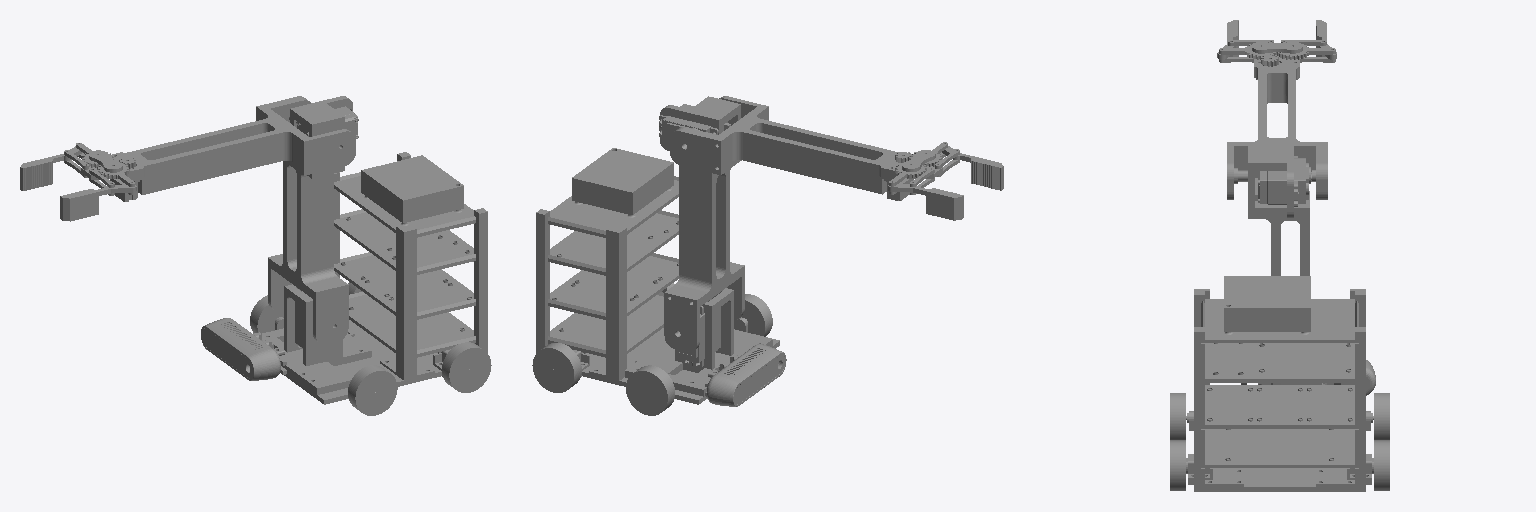
URDF robot description (macrobot_serial2r_r4):
<?xml version="1.0"?>
<robot name="macrobot_serial2r_r4"><material name="material">
      <color rgba="0.627 0.627 0.627 1.0" />
    </material>

    <link name="base_link">
      <inertial>
        <origin xyz="0.074613 0.068148 0.064319" rpy="0.000000 0.000000 0.000000" />
        <mass value="3.496760" />
        <inertia ixx="1.428406e-02" ixy="1.472034e-03" ixz="-4.731327e-03" iyy="1.935554e-02" iyz="1.056261e-03" izz="1.432474e-02" />
      </inertial>
      <visual>
        <origin xyz="-0.360034 -0.056971 0.117663" rpy="0.000000 0.000000 0.000000" />
        <geometry>
          <mesh filename="package://macrobot_description/meshes/macrobot/base_link.dae" scale="1 1 1" />
        </geometry>
        <material name="material" />
      </visual>
      <collision>
        <origin xyz="-0.360034 -0.056971 0.117663" rpy="0.000000 0.000000 0.000000" />
        <geometry>
          <mesh filename="package://macrobot_description/meshes/macrobot/base_link_collision.stl" scale="1 1 1" />
        </geometry>
      </collision>
    </link>
    <link name="camera_link">
      <inertial>
        <origin xyz="0.000000 0.000000 0.000000" rpy="0.000000 0.000000 0.000000" />
        <mass value="0.001000" />
        <inertia ixx="1.000000e-06" ixy="0.000000e+00" ixz="0.000000e+00" iyy="1.000000e-06" iyz="0.000000e+00" izz="1.000000e-06" />
      </inertial>
      <visual>
        <origin xyz="0.067650 -0.079323 -0.025820" rpy="0.000000 0.000000 0.000000" />
        <geometry>
          <mesh filename="package://macrobot_description/meshes/macrobot/camera_link.dae" scale="1 1 1" />
        </geometry>
        <material name="material" />
      </visual>
      <collision>
        <origin xyz="0.067650 -0.079323 -0.025820" rpy="0.000000 0.000000 0.000000" />
        <geometry>
          <mesh filename="package://macrobot_description/meshes/macrobot/camera_link_collision.stl" scale="1 1 1" />
        </geometry>
      </collision>
    </link>
    <link name="front_left_wheel">
      <inertial>
        <origin xyz="0.000000 0.006000 0.000000" rpy="0.000000 0.000000 0.000000" />
        <mass value="0.109612" />
        <inertia ixx="1.158027e-05" ixy="-5.019984e-21" ixz="8.645529e-22" iyy="2.052987e-05" iyz="-3.388132e-21" izz="1.158028e-05" />
      </inertial>
      <visual>
        <origin xyz="0.000000 0.000000 -0.019300" rpy="0.000000 0.000000 0.000000" />
        <geometry>
          <mesh filename="package://macrobot_description/meshes/macrobot/front_left_wheel.dae" scale="1 1 1" />
        </geometry>
        <material name="material" />
      </visual>
      <collision>
        <origin xyz="0.000000 0.000000 -0.019300" rpy="0.000000 0.000000 0.000000" />
        <geometry>
          <mesh filename="package://macrobot_description/meshes/macrobot/front_left_wheel_collision.stl" scale="1 1 1" />
        </geometry>
      </collision>
    </link>
    <link name="front_right_wheel">
      <inertial>
        <origin xyz="0.000000 -0.006000 0.000000" rpy="0.000000 0.000000 0.000000" />
        <mass value="0.109612" />
        <inertia ixx="1.158027e-05" ixy="1.427908e-20" ixz="-9.928414e-21" iyy="2.052987e-05" iyz="5.421011e-20" izz="1.158028e-05" />
      </inertial>
      <visual>
        <origin xyz="0.000000 -0.167400 -0.019300" rpy="0.000000 0.000000 0.000000" />
        <geometry>
          <mesh filename="package://macrobot_description/meshes/macrobot/front_right_wheel.dae" scale="1 1 1" />
        </geometry>
        <material name="material" />
      </visual>
      <collision>
        <origin xyz="0.000000 -0.167400 -0.019300" rpy="0.000000 0.000000 0.000000" />
        <geometry>
          <mesh filename="package://macrobot_description/meshes/macrobot/front_right_wheel_collision.stl" scale="1 1 1" />
        </geometry>
      </collision>
    </link>
    <link name="back_left_wheel">
      <inertial>
        <origin xyz="0.000000 0.006000 0.000000" rpy="0.000000 0.000000 0.000000" />
        <mass value="0.109612" />
        <inertia ixx="1.158027e-05" ixy="2.032879e-20" ixz="2.710505e-20" iyy="2.052987e-05" iyz="-1.694066e-21" izz="1.158028e-05" />
      </inertial>
      <visual>
        <origin xyz="-0.086000 0.000000 -0.019300" rpy="0.000000 0.000000 0.000000" />
        <geometry>
          <mesh filename="package://macrobot_description/meshes/macrobot/back_left_wheel.dae" scale="1 1 1" />
        </geometry>
        <material name="material" />
      </visual>
      <collision>
        <origin xyz="-0.086000 0.000000 -0.019300" rpy="0.000000 0.000000 0.000000" />
        <geometry>
          <mesh filename="package://macrobot_description/meshes/macrobot/back_left_wheel_collision.stl" scale="1 1 1" />
        </geometry>
      </collision>
    </link>
    <link name="back_right_wheel">
      <inertial>
        <origin xyz="0.000000 -0.006000 0.000000" rpy="0.000000 0.000000 0.000000" />
        <mass value="0.109612" />
        <inertia ixx="1.158027e-05" ixy="-4.336809e-19" ixz="-2.710505e-20" iyy="2.052987e-05" iyz="-1.084202e-19" izz="1.158028e-05" />
      </inertial>
      <visual>
        <origin xyz="-0.086000 -0.167400 -0.019300" rpy="0.000000 0.000000 0.000000" />
        <geometry>
          <mesh filename="package://macrobot_description/meshes/macrobot/back_right_wheel.dae" scale="1 1 1" />
        </geometry>
        <material name="material" />
      </visual>
      <collision>
        <origin xyz="-0.086000 -0.167400 -0.019300" rpy="0.000000 0.000000 0.000000" />
        <geometry>
          <mesh filename="package://macrobot_description/meshes/macrobot/back_right_wheel_collision.stl" scale="1 1 1" />
        </geometry>
      </collision>
    </link>
    <link name="robot_arm_link">
      <inertial>
        <origin xyz="0.102670 -0.000857 0.024891" rpy="0.000000 0.000000 0.000000" />
        <mass value="1.110983" />
        <inertia ixx="4.747553e-04" ixy="2.116747e-04" ixz="-2.405824e-04" iyy="4.030443e-03" iyz="1.481253e-06" izz="3.843086e-03" />
      </inertial>
      <visual>
        <origin xyz="0.000000 0.000000 -0.011300" rpy="0.000000 0.000000 0.000000" />
        <geometry>
          <mesh filename="package://macrobot_description/meshes/macrobot/robot_arm_link.dae" scale="1 1 1" />
        </geometry>
        <material name="material" />
      </visual>
      <collision>
        <origin xyz="0.000000 0.000000 -0.011300" rpy="0.000000 0.000000 0.000000" />
        <geometry>
          <mesh filename="package://macrobot_description/meshes/macrobot/robot_arm_link_collision.stl" scale="1 1 1" />
        </geometry>
      </collision>
    </link>
    <link name="gripper_link">
      <inertial>
        <origin xyz="0.019437 0.081150 0.000114" rpy="0.000000 0.000000 0.000000" />
        <mass value="0.748771" />
        <inertia ixx="2.990810e-03" ixy="-6.776506e-05" ixz="2.487471e-06" iyy="3.227377e-04" iyz="1.032303e-04" izz="3.211737e-03" />
      </inertial>
      <visual>
        <origin xyz="-0.004500 0.160300 -0.004500" rpy="0.000000 0.000000 0.000000" />
        <geometry>
          <mesh filename="package://macrobot_description/meshes/macrobot/gripper_link.dae" scale="1 1 1" />
        </geometry>
        <material name="material" />
      </visual>
      <collision>
        <origin xyz="-0.004500 0.160300 -0.004500" rpy="0.000000 0.000000 0.000000" />
        <geometry>
          <mesh filename="package://macrobot_description/meshes/macrobot/gripper_link_collision.stl" scale="1 1 1" />
        </geometry>
      </collision>
    </link>
    <link name="gripper_servo_gear">
      <inertial>
        <origin xyz="-0.000016 0.000000 0.005600" rpy="0.000000 0.000000 0.000000" />
        <mass value="0.005385" />
        <inertia ixx="1.000000e-06" ixy="1.786405e-11" ixz="6.233987e-11" iyy="1.000000e-06" iyz="-6.488219e-13" izz="1.000000e-06" />
      </inertial>
      <visual>
        <origin xyz="0.030641 -0.021579 0.002460" rpy="0.000000 0.000000 0.000000" />
        <geometry>
          <mesh filename="package://macrobot_description/meshes/macrobot/gripper_servo_gear.dae" scale="1 1 1" />
        </geometry>
        <material name="material" />
      </visual>
      <collision>
        <origin xyz="0.030641 -0.021579 0.002460" rpy="0.000000 0.000000 0.000000" />
        <geometry>
          <mesh filename="package://macrobot_description/meshes/macrobot/gripper_servo_gear_collision.stl" scale="1 1 1" />
        </geometry>
      </collision>
    </link>
    <link name="gripper_left_gear">
      <inertial>
        <origin xyz="-0.005942 0.000000 0.000205" rpy="0.000000 0.000000 0.000000" />
        <mass value="0.015694" />
        <inertia ixx="1.000000e-06" ixy="1.067814e-15" ixz="-1.840374e-07" iyy="2.064126e-06" iyz="6.739151e-16" izz="2.329471e-06" />
      </inertial>
      <visual>
        <origin xyz="0.037200 -0.038349 -0.004000" rpy="0.000000 0.000000 0.000000" />
        <geometry>
          <mesh filename="package://macrobot_description/meshes/macrobot/gripper_left_gear.dae" scale="1 1 1" />
        </geometry>
        <material name="material" />
      </visual>
      <collision>
        <origin xyz="0.037200 -0.038349 -0.004000" rpy="0.000000 0.000000 0.000000" />
        <geometry>
          <mesh filename="package://macrobot_description/meshes/macrobot/gripper_left_gear_collision.stl" scale="1 1 1" />
        </geometry>
      </collision>
    </link>
    <link name="gripper_right_gear">
      <inertial>
        <origin xyz="0.005924 0.000000 0.000201" rpy="0.000000 0.000000 0.000000" />
        <mass value="0.015645" />
        <inertia ixx="1.000000e-06" ixy="-1.388592e-15" ixz="1.844147e-07" iyy="2.062285e-06" iyz="6.129918e-16" izz="2.327511e-06" />
      </inertial>
      <visual>
        <origin xyz="0.013200 -0.038349 -0.004000" rpy="0.000000 0.000000 0.000000" />
        <geometry>
          <mesh filename="package://macrobot_description/meshes/macrobot/gripper_right_gear.dae" scale="1 1 1" />
        </geometry>
        <material name="material" />
      </visual>
      <collision>
        <origin xyz="0.013200 -0.038349 -0.004000" rpy="0.000000 0.000000 0.000000" />
        <geometry>
          <mesh filename="package://macrobot_description/meshes/macrobot/gripper_right_gear_collision.stl" scale="1 1 1" />
        </geometry>
      </collision>
    </link>
    <link name="gripper_left_addition">
      <inertial>
        <origin xyz="-0.015000 0.000000 -0.002000" rpy="0.000000 0.000000 0.000000" />
        <mass value="0.005805" />
        <inertia ixx="1.000000e-06" ixy="1.129942e-18" ixz="3.176374e-22" iyy="1.000000e-06" iyz="1.588187e-22" izz="1.000000e-06" />
      </inertial>
      <visual>
        <origin xyz="0.030200 -0.053349 -0.003500" rpy="0.000000 0.000000 0.000000" />
        <geometry>
          <mesh filename="package://macrobot_description/meshes/macrobot/gripper_left_addition.dae" scale="1 1 1" />
        </geometry>
        <material name="material" />
      </visual>
      <collision>
        <origin xyz="0.030200 -0.053349 -0.003500" rpy="0.000000 0.000000 0.000000" />
        <geometry>
          <mesh filename="package://macrobot_description/meshes/macrobot/gripper_left_addition_collision.stl" scale="1 1 1" />
        </geometry>
      </collision>
    </link>
    <link name="gripper_right_addition">
      <inertial>
        <origin xyz="0.015000 0.000000 -0.002000" rpy="0.000000 0.000000 0.000000" />
        <mass value="0.005805" />
        <inertia ixx="1.000000e-06" ixy="1.128460e-18" ixz="2.646978e-22" iyy="1.000000e-06" iyz="-5.293956e-23" izz="1.000000e-06" />
      </inertial>
      <visual>
        <origin xyz="0.020200 -0.053349 -0.003500" rpy="0.000000 0.000000 0.000000" />
        <geometry>
          <mesh filename="package://macrobot_description/meshes/macrobot/gripper_right_addition.dae" scale="1 1 1" />
        </geometry>
        <material name="material" />
      </visual>
      <collision>
        <origin xyz="0.020200 -0.053349 -0.003500" rpy="0.000000 0.000000 0.000000" />
        <geometry>
          <mesh filename="package://macrobot_description/meshes/macrobot/gripper_right_addition_collision.stl" scale="1 1 1" />
        </geometry>
      </collision>
    </link>
    <link name="gripper_clamp_left">
      <inertial>
        <origin xyz="0.000612 0.023868 -0.008897" rpy="0.000000 0.000000 0.000000" />
        <mass value="0.011841" />
        <inertia ixx="2.717208e-06" ixy="-2.405366e-07" ixz="4.658296e-08" iyy="1.000000e-06" iyz="3.638982e-07" izz="2.380502e-06" />
      </inertial>
      <visual>
        <origin xyz="0.060200 -0.053349 -0.003500" rpy="0.000000 0.000000 0.000000" />
        <geometry>
          <mesh filename="package://macrobot_description/meshes/macrobot/gripper_clamp_left.dae" scale="1 1 1" />
        </geometry>
        <material name="material" />
      </visual>
      <collision>
        <origin xyz="0.060200 -0.053349 -0.003500" rpy="0.000000 0.000000 0.000000" />
        <geometry>
          <mesh filename="package://macrobot_description/meshes/macrobot/gripper_clamp_left_collision.stl" scale="1 1 1" />
        </geometry>
      </collision>
    </link>
    <link name="gripper_clamp_right">
      <inertial>
        <origin xyz="-0.000612 0.023868 -0.008897" rpy="0.000000 0.000000 0.000000" />
        <mass value="0.011841" />
        <inertia ixx="2.717208e-06" ixy="2.405366e-07" ixz="-4.658296e-08" iyy="1.000000e-06" iyz="3.638982e-07" izz="2.380502e-06" />
      </inertial>
      <visual>
        <origin xyz="-0.009800 -0.053349 -0.003500" rpy="0.000000 0.000000 0.000000" />
        <geometry>
          <mesh filename="package://macrobot_description/meshes/macrobot/gripper_clamp_right.dae" scale="1 1 1" />
        </geometry>
        <material name="material" />
      </visual>
      <collision>
        <origin xyz="-0.009800 -0.053349 -0.003500" rpy="0.000000 0.000000 0.000000" />
        <geometry>
          <mesh filename="package://macrobot_description/meshes/macrobot/gripper_clamp_right_collision.stl" scale="1 1 1" />
        </geometry>
      </collision>
    </link>
    <link name="gripper_command_link">
      <inertial>
        <origin xyz="0.0 0.0 0.0" rpy="0.0 0.0 0.0" />
        <mass value="0.000001" />
        <inertia ixx="1.0e-12" ixy="0.0" ixz="0.0" iyy="1.0e-12" iyz="0.0" izz="1.0e-12" />
      </inertial>
    </link>
    <link name="tool0" />
    <link name="grasp_nominal" />

    <joint name="gripper_joint" type="revolute">
      <parent link="gripper_link" />
      <child link="gripper_command_link" />
      <origin xyz="0.000000 0.000000 0.000000" rpy="0.000000 0.000000 0.000000" />
      <axis xyz="0.000000 0.000000 1.000000" />
      <limit lower="0.000000000000" upper="1.570796326795" effort="20.000000" velocity="2.000000" />
    </joint>
    <joint name="camera_fix_joint" type="fixed">
      <parent link="base_link" />
      <child link="camera_link" />
      <origin xyz="-0.030650 0.060623 0.025820" rpy="0.000000 0.000000 0.000000" />
    </joint>
        <joint name="front_left_wheel_joint" type="continuous">
            <parent link="base_link" />
            <child link="front_left_wheel" />
            <origin xyz="0.037000 -0.018700 0.019300" rpy="0.000000 0.000000 0.000000" />
            <axis xyz="0.000000 -1.000000 0.000000" />
            <limit effort="100.0" velocity="1.0" />
          </joint>
        <joint name="front_right_wheel_joint" type="continuous">
            <parent link="base_link" />
            <child link="front_right_wheel" />
            <origin xyz="0.037000 0.148700 0.019300" rpy="0.000000 0.000000 0.000000" />
            <axis xyz="0.000000 1.000000 0.000000" />
            <limit effort="100.0" velocity="1.0" />
          </joint>
        <joint name="back_left_wheel_joint" type="continuous">
            <parent link="base_link" />
            <child link="back_left_wheel" />
            <origin xyz="0.123000 -0.018700 0.019300" rpy="0.000000 0.000000 0.000000" />
            <axis xyz="0.000000 -1.000000 0.000000" />
            <limit effort="100.0" velocity="1.0" />
          </joint>
        <joint name="back_right_wheel_joint" type="continuous">
            <parent link="base_link" />
            <child link="back_right_wheel" />
            <origin xyz="0.123000 0.148700 0.019300" rpy="0.000000 0.000000 0.000000" />
            <axis xyz="0.000000 1.000000 0.000000" />
            <limit effort="100.0" velocity="1.0" />
          </joint>
        <joint name="arm_lift_joint" type="revolute">
      <parent link="base_link" />
      <child link="robot_arm_link" />
      <origin xyz="0.030000 0.093700 0.057900" rpy="-1.637996 -1.570796 -3.074393" />
      <axis xyz="0.000000 0.000000 -1.000000" />
      <limit lower="-1.000000000000" upper="1.000000000000" effort="100.000000" velocity="1.000000" />
    </joint>
    <joint name="wrist_pitch_joint" type="revolute">
      <parent link="robot_arm_link" />
      <child link="gripper_link" />
      <origin xyz="0.161000 0.000400 0.010000" rpy="0.000000 -1.570796 0.000000" />
      <axis xyz="-1.000000 0.000000 0.000000" />
      <limit lower="-1.300000000000" upper="1.300000000000" effort="100.000000" velocity="1.000000" />
    </joint>
    <joint name="gripper_servo_joint" type="revolute">
      <parent link="gripper_link" />
      <child link="gripper_servo_gear" />
      <origin xyz="0.026141 0.176579 -0.006540" rpy="3.141593 0.000000 -3.141593" />
      <axis xyz="0.000000 0.000000 1.000000" />
      <limit lower="0.000000000000" upper="3.141592653590" effort="100.000000" velocity="1.000000" />
      <mimic joint="gripper_joint" multiplier="2.000000000000" offset="0.000000000000" />
    </joint>
    <joint name="gripper_left_gear_joint" type="revolute">
      <parent link="gripper_link" />
      <child link="gripper_left_gear" />
      <origin xyz="0.032700 0.193349 -0.012500" rpy="3.141593 0.000000 -3.141593" />
      <axis xyz="0.000000 0.000000 1.000000" />
      <limit lower="-1.570796326795" upper="0.000000000000" effort="100.000000" velocity="1.000000" />
      <mimic joint="gripper_joint" multiplier="-1.000000000000" offset="0.000000000000" />
    </joint>
    <joint name="gripper_right_gear_joint" type="revolute">
      <parent link="gripper_link" />
      <child link="gripper_right_gear" />
      <origin xyz="0.008700 0.193349 -0.012500" rpy="3.141593 0.000000 -3.141593" />
      <axis xyz="0.000000 0.000000 1.000000" />
      <limit lower="0.000000000000" upper="1.570796326795" effort="100.000000" velocity="1.000000" />
      <mimic joint="gripper_joint" multiplier="1.000000000000" offset="0.000000000000" />
    </joint>
    <joint name="gripper_left_addition_joint" type="revolute">
      <parent link="gripper_link" />
      <child link="gripper_left_addition" />
      <origin xyz="0.025700 0.208349 -0.012500" rpy="3.141593 0.000000 -3.141593" />
      <axis xyz="0.000000 0.000000 1.000000" />
      <limit lower="-1.570796326795" upper="0.000000000000" effort="100.000000" velocity="1.000000" />
      <mimic joint="gripper_joint" multiplier="-1.000000000000" offset="0.000000000000" />
    </joint>
    <joint name="gripper_right_addition_joint" type="revolute">
      <parent link="gripper_link" />
      <child link="gripper_right_addition" />
      <origin xyz="0.015700 0.208349 -0.012500" rpy="3.141593 0.000000 -3.141593" />
      <axis xyz="0.000000 0.000000 1.000000" />
      <limit lower="0.000000000000" upper="1.570796326795" effort="100.000000" velocity="1.000000" />
      <mimic joint="gripper_joint" multiplier="1.000000000000" offset="0.000000000000" />
    </joint>
    <joint name="clamp_left_addition_joint" type="revolute">
      <parent link="gripper_left_addition" />
      <child link="gripper_clamp_left" />
      <origin xyz="-0.030000 0.000000 0.000000" rpy="0.000000 0.000000 0.000000" />
      <axis xyz="0.000000 0.000000 1.000000" />
      <limit lower="0.000000000000" upper="1.570796326795" effort="100.000000" velocity="1.000000" />
      <mimic joint="gripper_joint" multiplier="1.000000000000" offset="0.000000000000" />
    </joint>
    <joint name="clamp_right_addition_joint" type="revolute">
      <parent link="gripper_right_addition" />
      <child link="gripper_clamp_right" />
      <origin xyz="0.030000 0.000000 0.000000" rpy="0.000000 0.000000 0.000000" />
      <axis xyz="0.000000 0.000000 1.000000" />
      <limit lower="-1.570796326795" upper="0.000000000000" effort="100.000000" velocity="1.000000" />
      <mimic joint="gripper_joint" multiplier="-1.000000000000" offset="0.000000000000" />
    </joint>
    <joint name="tool0_fixed_joint" type="fixed">
      <parent link="gripper_link" />
      <child link="tool0" />
      <origin xyz="0.000000 0.000000 0.000000" rpy="0.000000 0.000000 0.000000" />
    </joint>
    <joint name="grasp_nominal_fixed_joint" type="fixed">
      <parent link="gripper_link" />
      <child link="grasp_nominal" />
      <origin xyz="0.020700 0.211500 -0.008098" rpy="0.000000 0.000000 0.000000" />
    </joint>
  </robot>

--- Render facts (derived) ---
3 views of the same robot in one strip: view 1: azimuth 30°, elevation 25°; view 2: azimuth 150°, elevation 25°; view 3: azimuth 270°, elevation 25° (orthographic).
Robot: macrobot_serial2r_r4 — 18 links, 17 joints (10 revolute, 4 continuous, 3 fixed); root link base_link; default pose: all joints at 0.
Visible links, largest first — view 1: base_link, gripper_link, robot_arm_link, back_left_wheel, front_left_wheel, gripper_clamp_left, gripper_clamp_right, front_right_wheel; view 2: base_link, robot_arm_link, gripper_link, front_right_wheel, back_right_wheel, gripper_clamp_right, gripper_clamp_left, front_left_wheel; view 3: base_link, robot_arm_link, gripper_link, back_left_wheel, back_right_wheel, front_left_wheel, front_right_wheel, gripper_right_gear.
Link boxes in pixels (x1,y1,x2,y2): base_link: [201, 152, 487, 404]; gripper_link: [81, 96, 355, 201]; robot_arm_link: [268, 96, 358, 344]; back_left_wheel: [442, 342, 491, 392]; front_left_wheel: [348, 365, 397, 415]; gripper_clamp_left: [60, 184, 136, 221]; gripper_clamp_right: [20, 146, 82, 190]; front_right_wheel: [250, 295, 283, 333]; base_link: [536, 148, 786, 406]; robot_arm_link: [659, 96, 744, 351]; gripper_link: [670, 96, 942, 200]; front_right_wheel: [626, 365, 674, 415]; back_right_wheel: [532, 343, 581, 392]; gripper_clamp_right: [888, 184, 963, 220]; gripper_clamp_left: [942, 146, 1003, 190]; front_left_wheel: [734, 294, 772, 336]; base_link: [1186, 276, 1375, 491]; robot_arm_link: [1241, 146, 1340, 384]; gripper_link: [1227, 42, 1327, 199]; back_left_wheel: [1170, 440, 1185, 490]; back_right_wheel: [1374, 440, 1389, 490]; front_left_wheel: [1170, 393, 1185, 439]; front_right_wheel: [1374, 393, 1389, 439]; gripper_right_gear: [1277, 44, 1335, 62].
Size in the robot's own frame: 0.3725 by 0.1674 by 0.2374 metres.
Meshes: 15 distinct files referenced, 15 mesh visuals loaded (15 Collada DAE).
